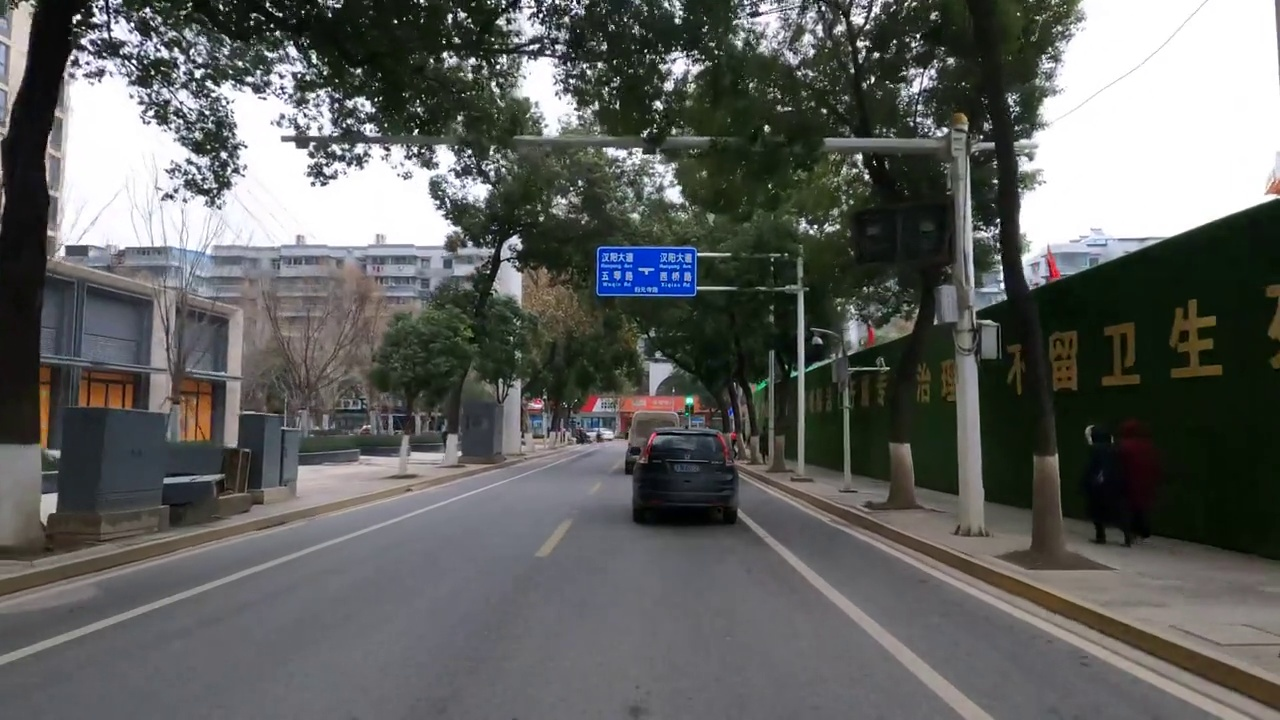lane: (1, 541, 350, 662), (772, 548, 981, 720), (979, 592, 1246, 720), (528, 520, 579, 554)
